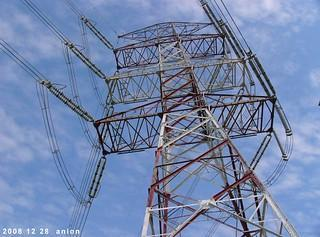power_tower: (25, 10, 310, 237)
